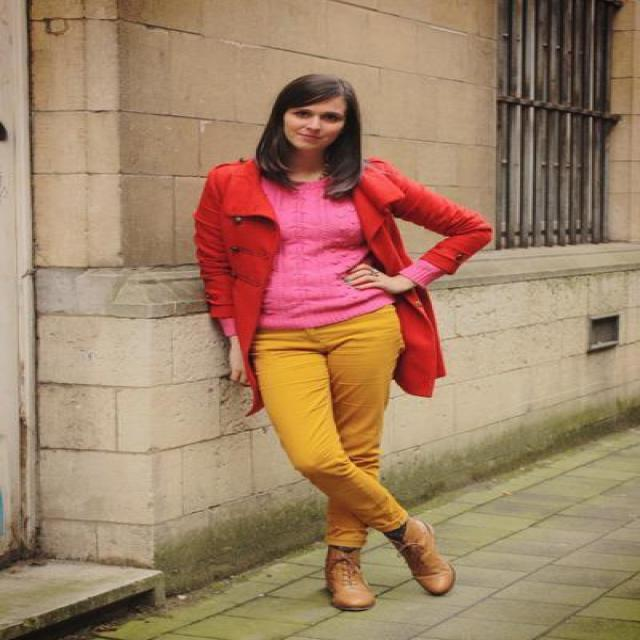jacket: (187, 158, 491, 416)
pants: (256, 305, 403, 549)
shirt: (230, 182, 364, 328)
shoe: (322, 506, 482, 604)
